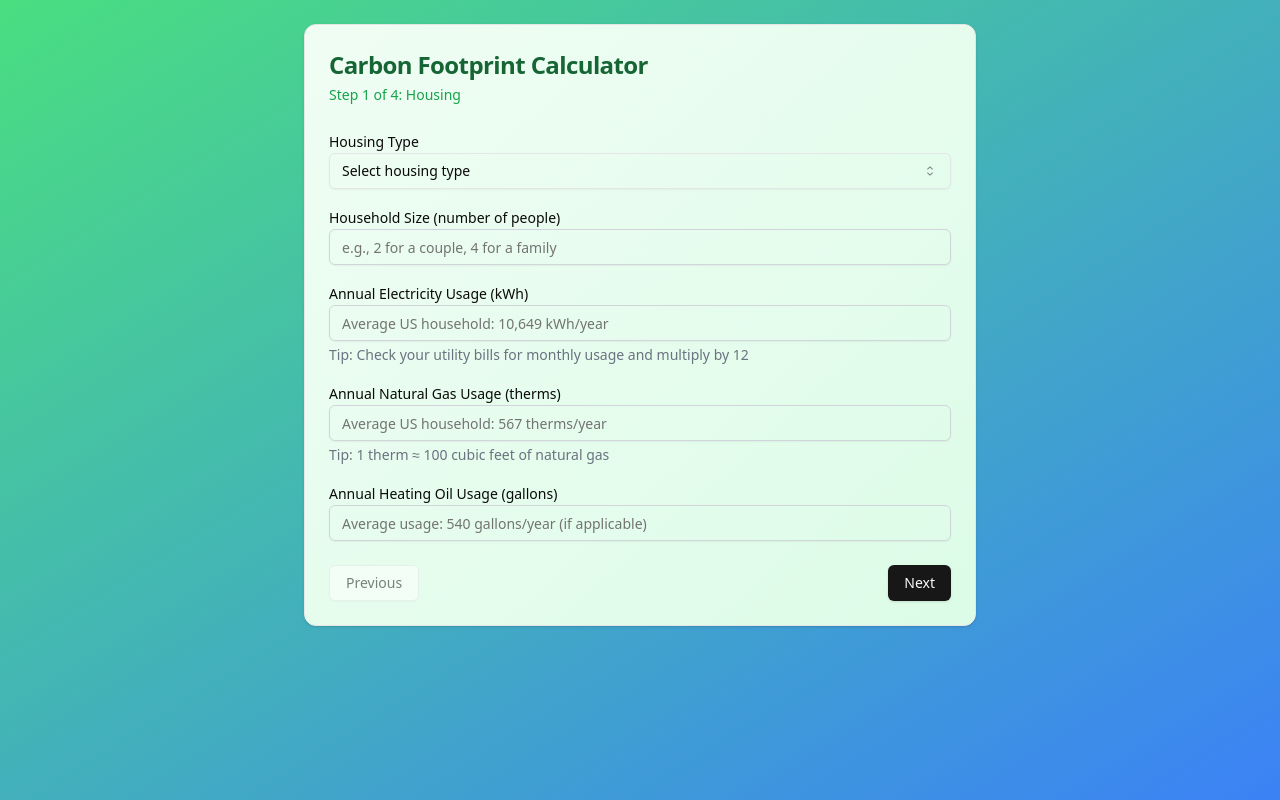
Scenario: Calculator Component › can navigate back to previous step
Click the button "Next" at (920, 583), box x1=888 y1=565 x2=951 y2=601
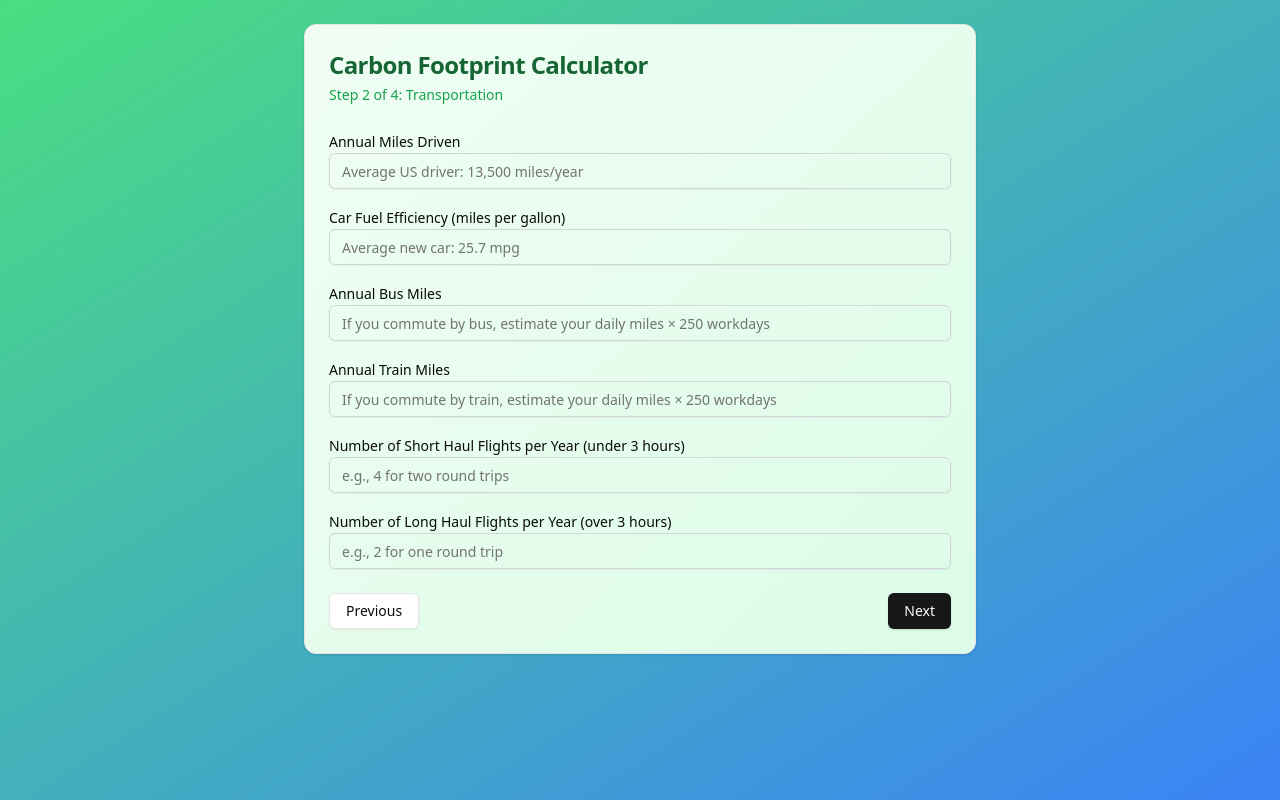
Click the button "Previous" at (374, 611), box x1=329 y1=593 x2=419 y2=629
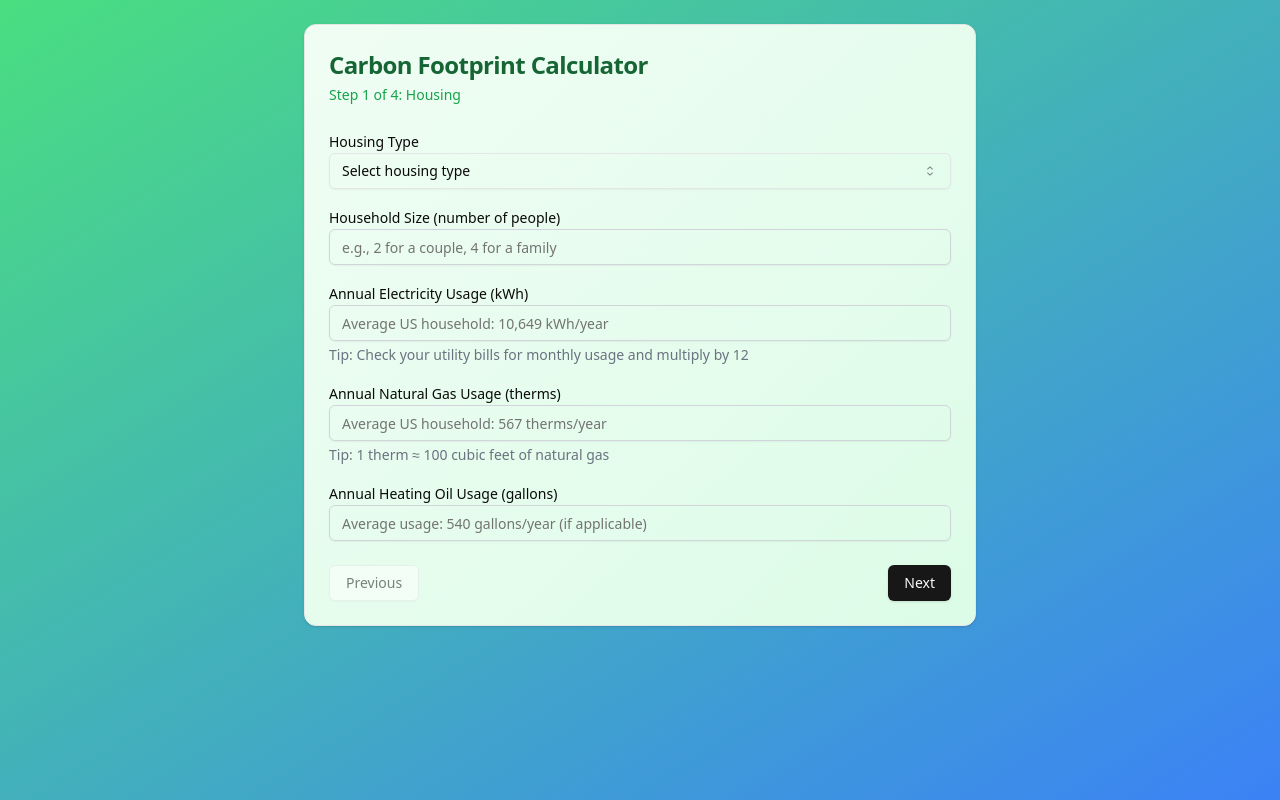
Expected: the text "Step 1 of 4: Housing" is shown, x1=329 y1=85 x2=461 y2=104
